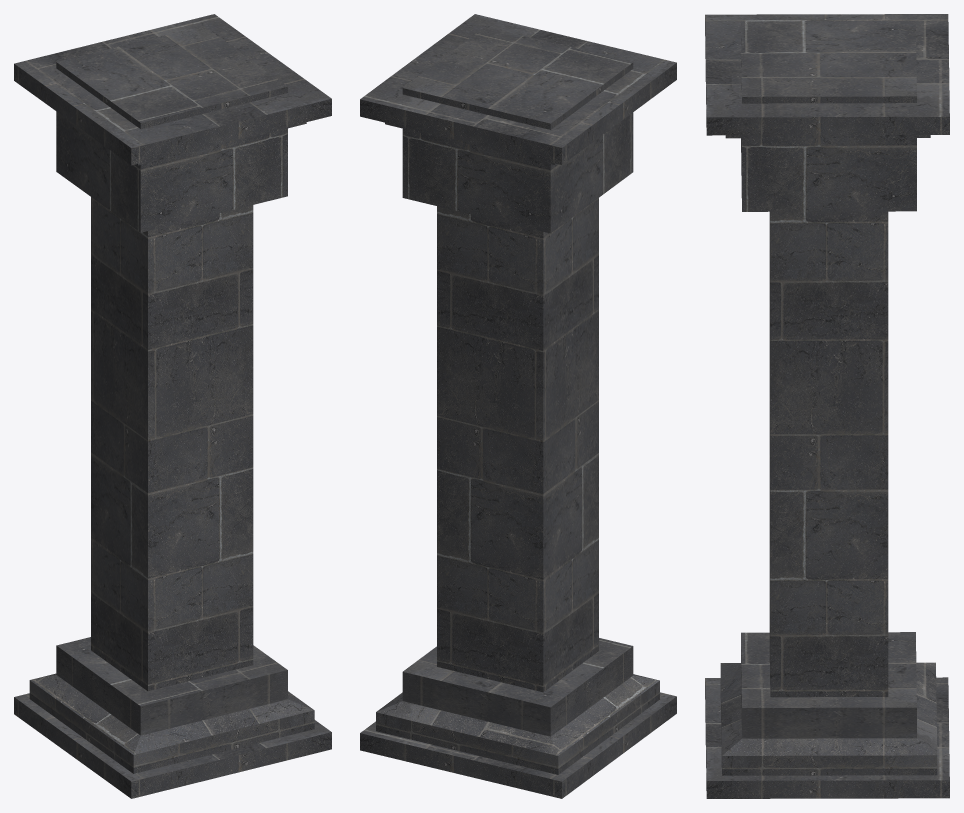
File: pilar.glb
3 views of the same model, side by side, from view 1: azimuth 30°, elevation 25°; view 2: azimuth 150°, elevation 25°; view 3: azimuth 270°, elevation 25° (orthographic). The views are drawn at different scales.
Visible parts, largest first — view 1: column; view 2: column; view 3: column.
Part boxes in pixels (left/top/right/bottom): column: left=14, top=14, right=331, bottom=798; column: left=360, top=14, right=676, bottom=798; column: left=705, top=14, right=949, bottom=798.
Size of what is drawn, in the model's own units: 1.59 by 4.92 by 1.59.
Materials: 1 (1 with a texture image).
